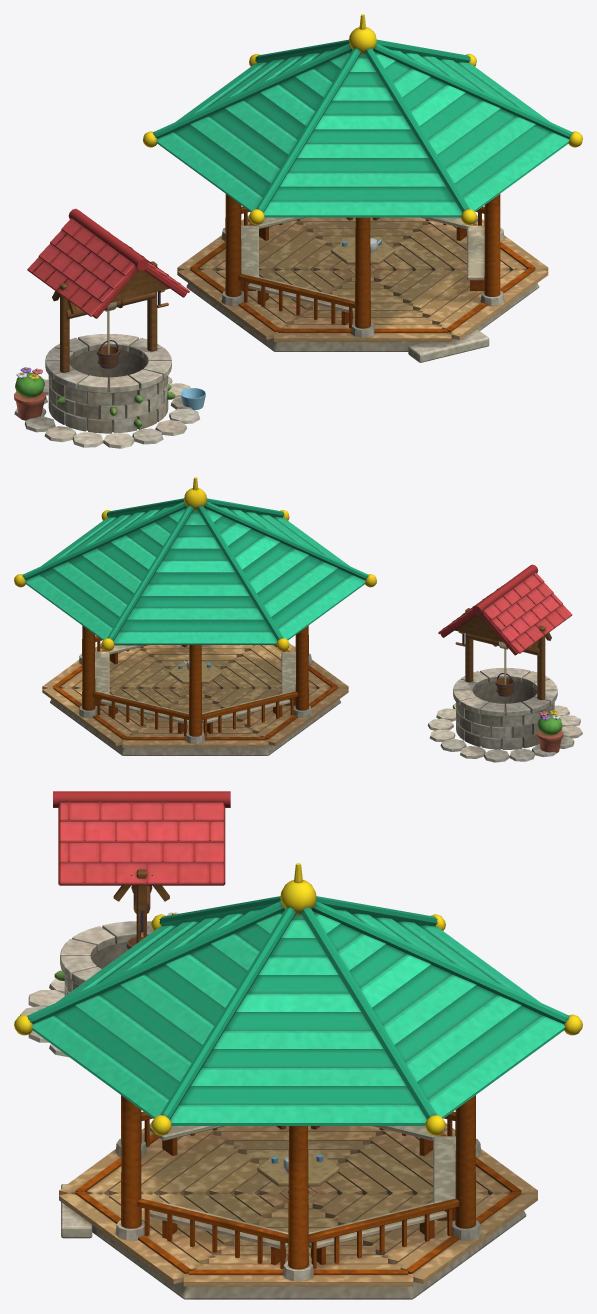
The model's file is wellRest.glb.
3 views of the same model, one above another, from view 1: azimuth 30°, elevation 25°; view 2: azimuth 150°, elevation 25°; view 3: azimuth 270°, elevation 25° (orthographic). The views are drawn at different scales.
Parts seen in each view (by area): view 1: lathe; view 2: lathe; view 3: lathe.
Boxes of the visible parts, x1,y1,x2,y2 form: lathe: (14, 14, 582, 448); lathe: (14, 477, 582, 762); lathe: (14, 791, 582, 1299).
Size of the model in its own units: 16.09 by 7.46 by 10.9.
Materials: 1 (1 with a texture image).
